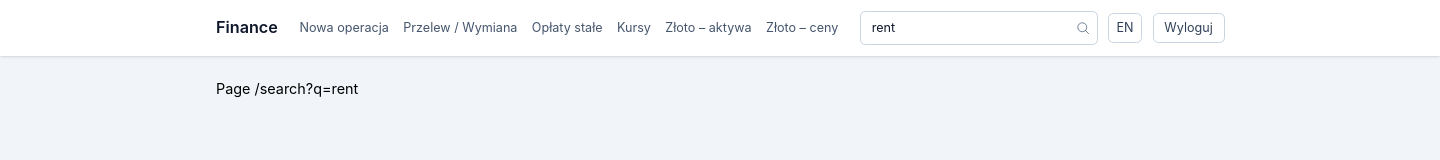
Test case: Layout › empties the search field once another page opens
Check: the field named "Szukaj" holds "rent", box [860,11,1098,45]
Click the link "Nowa operacja": (344, 28) [299,19,389,37]
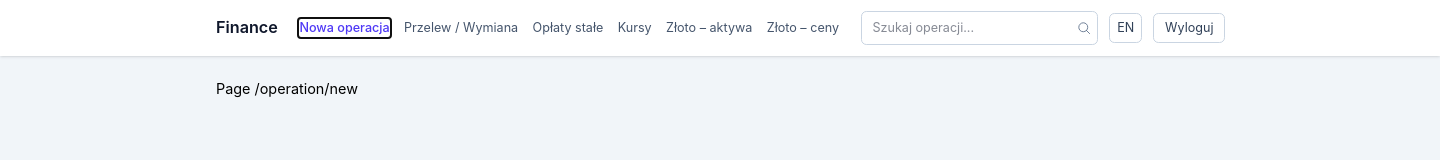
Check: the field labelled "Szukaj" is empty, box [861,11,1098,45]
